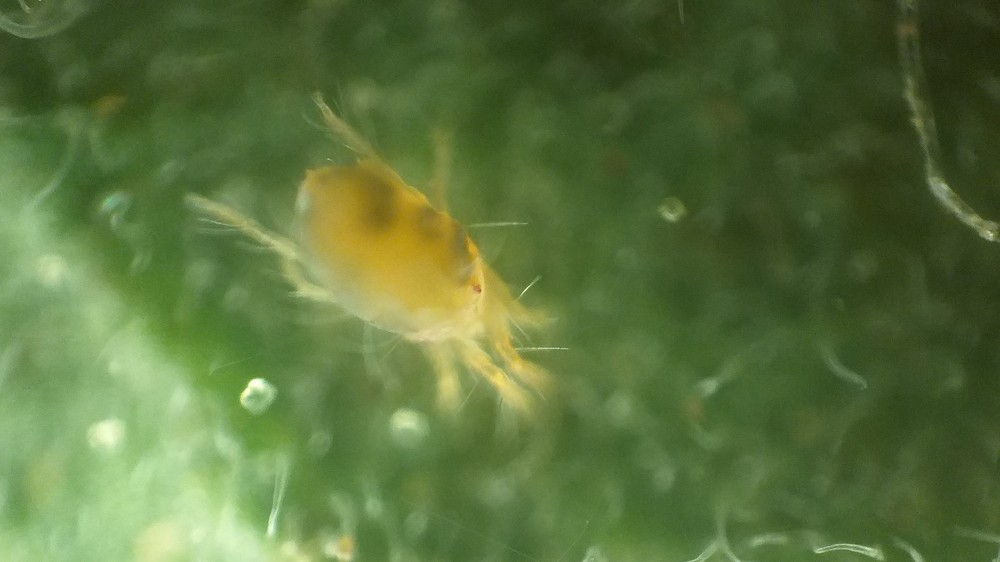Aracnido Rojo: (184, 90, 589, 444)
